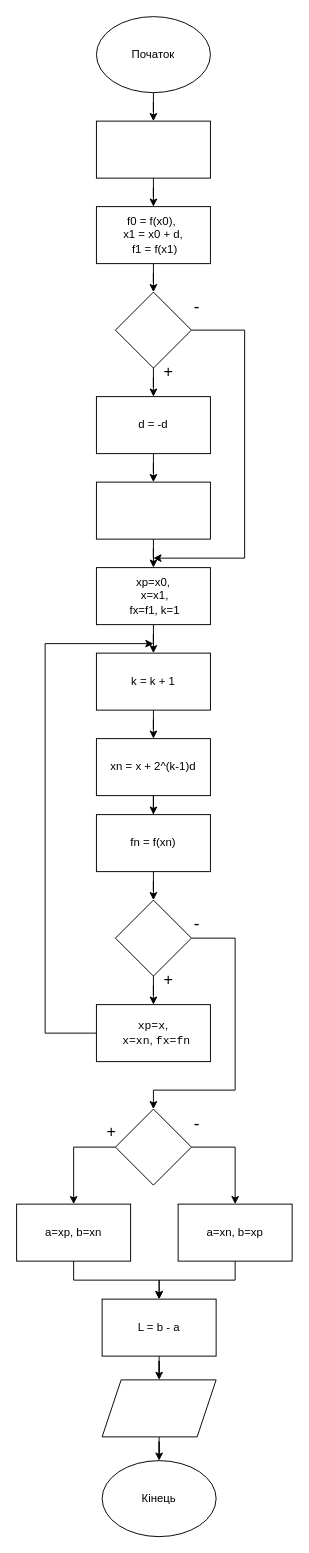
Image size: 309x1553. Some labels were removed from this diagram. Here are the shapes that lost their labels. From the top down, the centre of each, then its label:
the point at 152,149: x0 = 0.75, d = 0.1
the point at 152,329: f1 >= f0 ?
the point at 152,510: x1 = x0 + d, f1 = f(x1)
the point at 152,937: fn < fx ?
the point at 152,1146: d > 0 ?
the point at 158,1408: [a; b]
